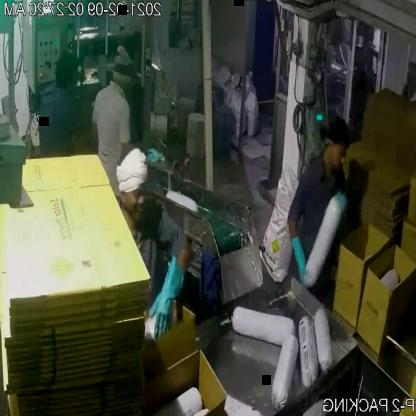glove: (146, 252, 188, 344), (288, 226, 312, 291), (327, 186, 354, 234)
